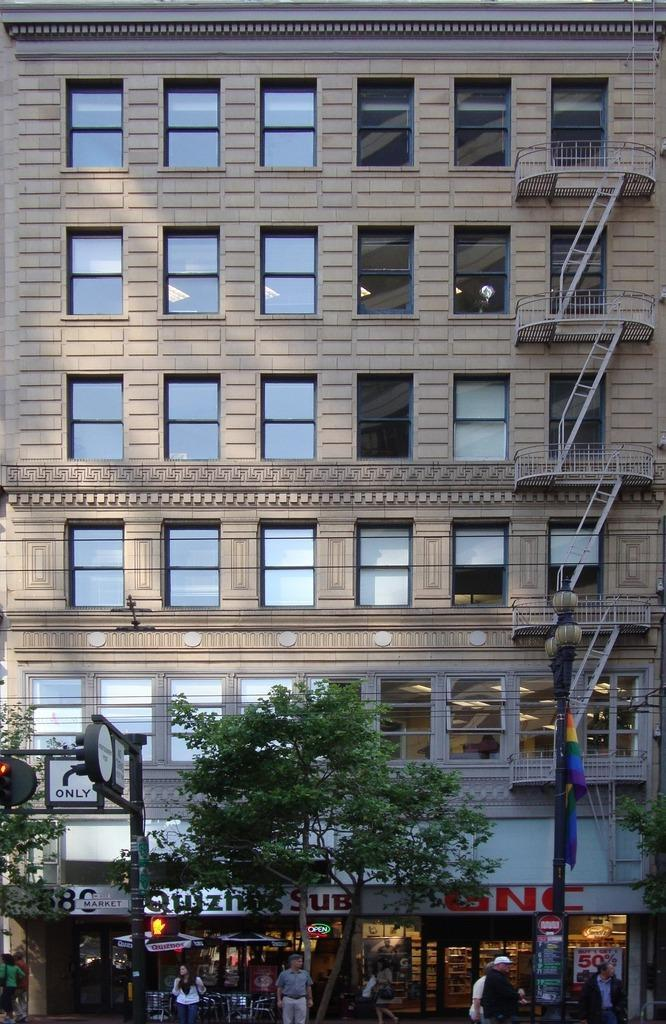window: (447, 676, 508, 766), (516, 674, 577, 764), (582, 673, 643, 763), (66, 79, 124, 168), (66, 228, 124, 317), (165, 227, 223, 316), (260, 228, 318, 317), (456, 230, 514, 319), (549, 227, 607, 316), (66, 377, 124, 466), (65, 522, 123, 611), (262, 521, 320, 610), (453, 519, 511, 608), (547, 519, 605, 608), (260, 79, 318, 167), (454, 80, 512, 168), (549, 375, 607, 463), (260, 375, 318, 463), (165, 78, 222, 167), (360, 79, 417, 168), (552, 79, 609, 168), (359, 227, 416, 316), (357, 372, 414, 461), (162, 526, 219, 615), (358, 521, 415, 610), (452, 374, 509, 462), (163, 375, 220, 463), (377, 677, 433, 764), (29, 677, 84, 764), (99, 677, 154, 764), (170, 677, 225, 764), (240, 679, 295, 766)
